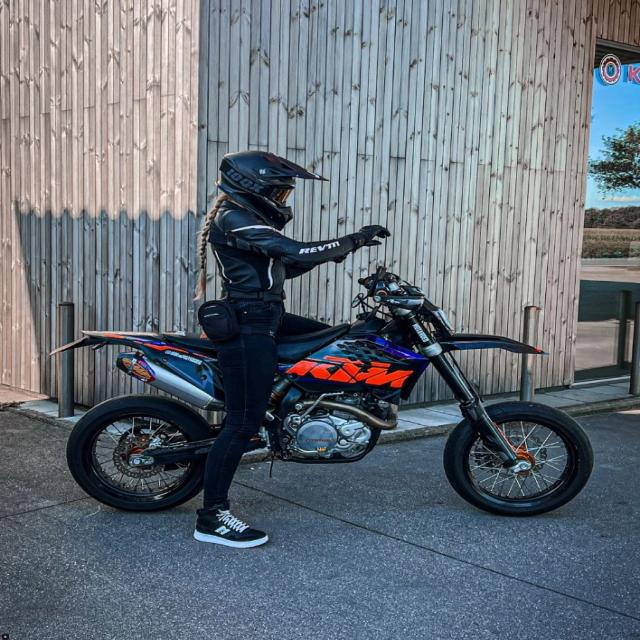illegal_helmet: (212, 145, 336, 235)
